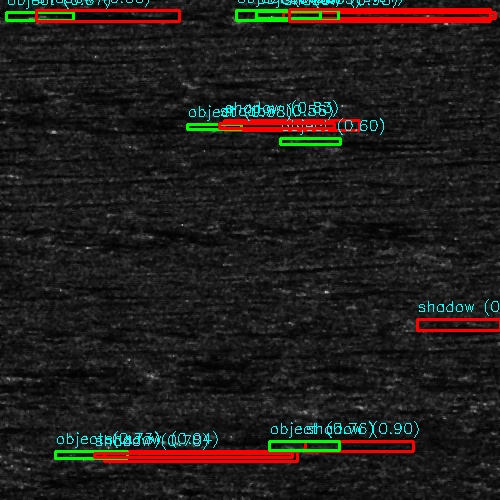rock: (427, 16, 500, 29), (275, 442, 338, 451), (90, 454, 111, 459)
shadow: (307, 442, 446, 451), (101, 454, 316, 459), (0, 439, 41, 444)
